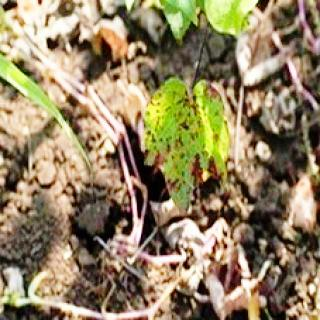leaf spot: (140, 76, 244, 210)
